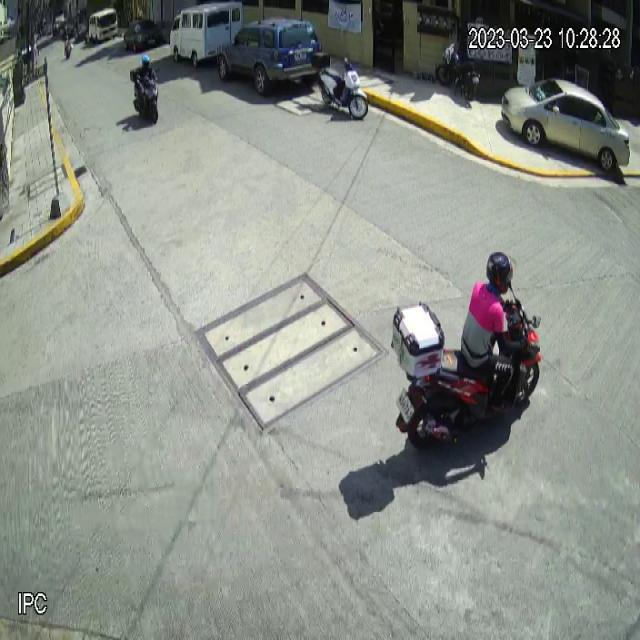Car: (502, 76, 630, 174), (215, 18, 323, 95)
Motorcycle: (390, 297, 542, 465), (315, 56, 369, 121)
Van: (169, 1, 244, 68)
